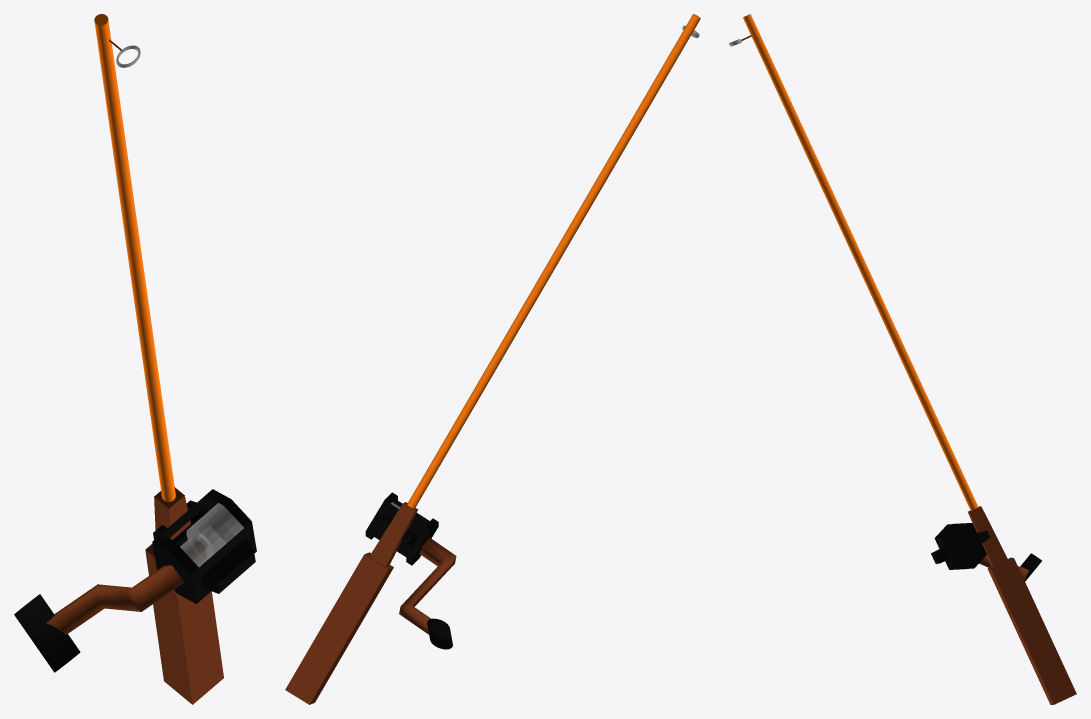
The model's file is fishingRod.obj.
3 views of the same model, side by side, from view 1: azimuth 30°, elevation 25°; view 2: azimuth 150°, elevation 25°; view 3: azimuth 270°, elevation 25° (orthographic). The views are drawn at different scales.
Visible parts, largest first — view 1: polySurface81; view 2: polySurface81; view 3: polySurface81.
Boxes of the visible parts, x1=… form: polySurface81: x1=14, y1=14, x2=256, y2=704; polySurface81: x1=285, y1=14, x2=700, y2=704; polySurface81: x1=729, y1=14, x2=1076, y2=704.
Size of the model in its own units: 11.81 by 28.5 by 15.25.
